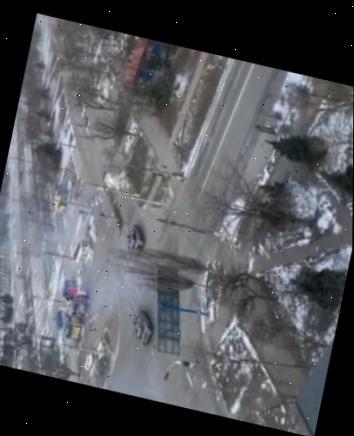tank: (121, 301, 157, 346), (119, 220, 147, 256)
